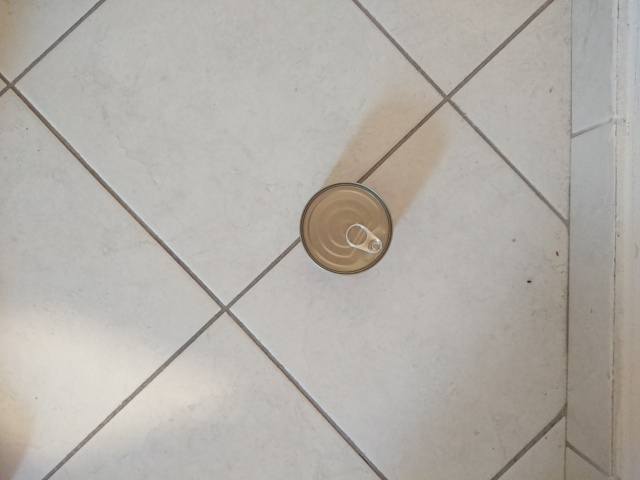Giana Tuna Salad Mexico 185g: (297, 180, 394, 277)
